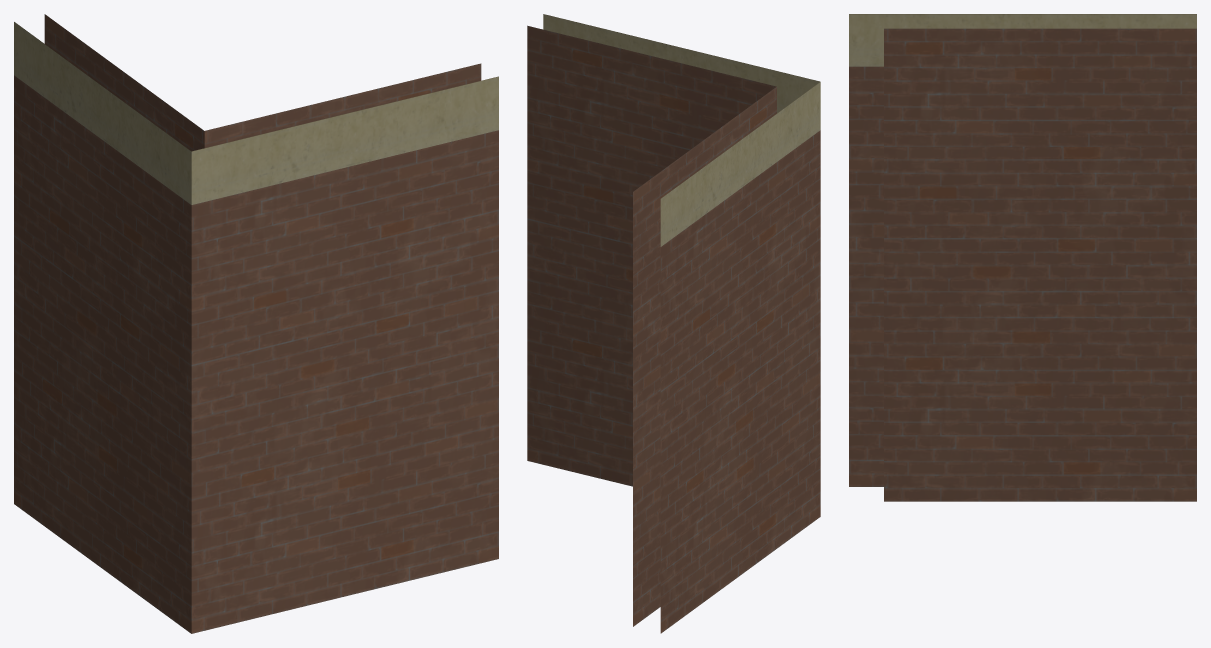
Rendered from brick_toptrim_corner.glb.
The picture shows the model from 3 angles, left to right: view 1: azimuth 30°, elevation 25°; view 2: azimuth 150°, elevation 25°; view 3: azimuth 270°, elevation 25°; orthographic projection. The views are drawn at different scales.
Parts seen in each view (by area): view 1: Brick_TopTrim_Corner; view 2: Brick_TopTrim_Corner; view 3: Brick_TopTrim_Corner.
Boxes of the visible parts, <box> form: Brick_TopTrim_Corner: <box>14,14,498,633</box>; Brick_TopTrim_Corner: <box>527,14,820,633</box>; Brick_TopTrim_Corner: <box>849,14,1196,501</box>.
Bounding box in the file's own units: 2 × 3 × 2.
3 materials, 3 textured.
